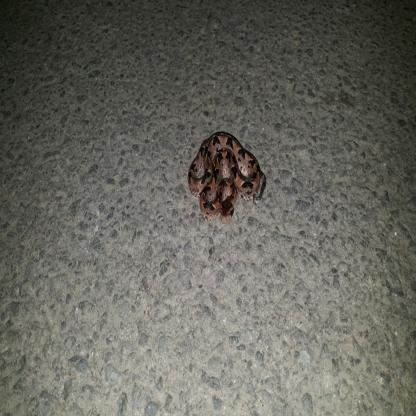Snake: (183, 126, 269, 232)
